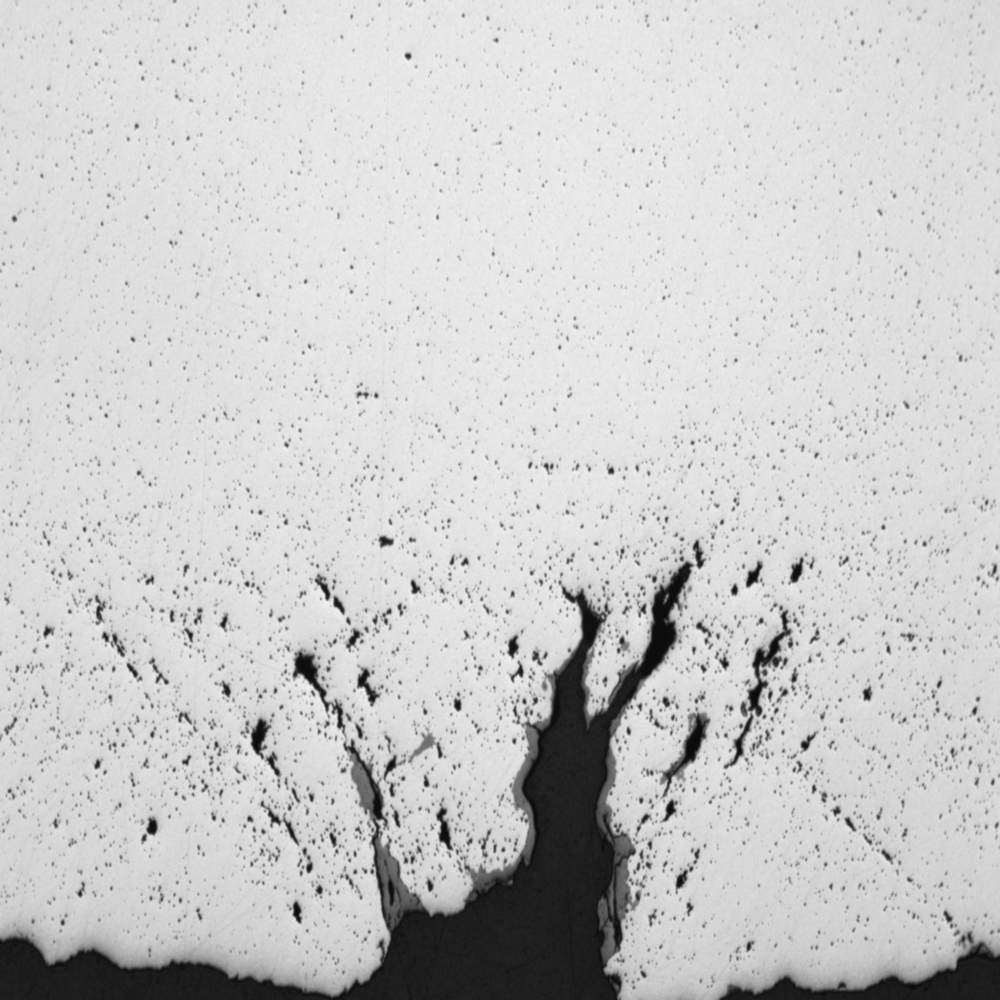crack: (163, 528, 791, 1000)
